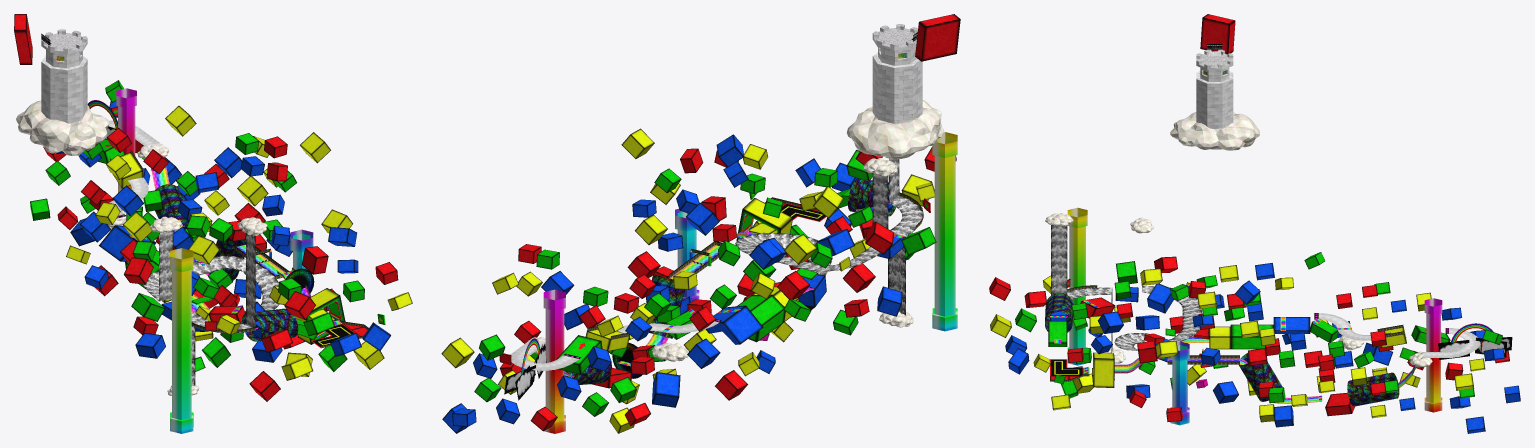
The picture shows the model from 3 angles, left to right: view 1: azimuth 30°, elevation 25°; view 2: azimuth 150°, elevation 25°; view 3: azimuth 270°, elevation 25°; orthographic projection. The views are drawn at different scales.
Parts seen in each view (by area): view 1: __CW-SKP--Cube_Blue, __CW-SKP--Cube_Red, __CW-SKP--Cube_Green, __CW-SKP--Cube_Yellow, __CW-SKP--Pipe, __CW-SKP--3D_Cloud_Semi-Transparent, __CW-SKP--Waterfall, __CW-SKP--Tower, __CW-SKP--r_warp_particle, __CW-SKP--Rainbow_Pipe, __CW-SKP--Rainbow_Road, __CW-SKP--Cloud_Road (+3 smaller); view 2: __CW-SKP--Cube_Blue, __CW-SKP--Cube_Red, __CW-SKP--Cube_Green, __CW-SKP--Cube_Yellow, __CW-SKP--Pipe, __CW-SKP--3D_Cloud_Semi-Transparent, __CW-SKP--Tower, __CW-SKP--Waterfall, __CW-SKP--Rainbow_Pipe, __CW-SKP--r_warp_particle, __CW-SKP--Cloud_Road, __CW-SKP--2D_Cloud (+4 smaller); view 3: __CW-SKP--Cube_Blue, __CW-SKP--Cube_Red, __CW-SKP--Cube_Yellow, __CW-SKP--Cube_Green, __CW-SKP--3D_Cloud_Semi-Transparent, __CW-SKP--Pipe, __CW-SKP--Waterfall, __CW-SKP--r_warp_particle, __CW-SKP--Tower, __CW-SKP--Rainbow_Pipe, __CW-SKP--Cloud_Road, __CW-SKP--Rainbow_Road (+3 smaller).
Boxes of the visible parts, x1,y1,x2,y2 form: __CW-SKP--Cube_Blue: (55,101,390,362); __CW-SKP--Cube_Red: (14,14,398,401); __CW-SKP--Cube_Green: (30,80,385,371); __CW-SKP--Cube_Yellow: (66,106,412,380); __CW-SKP--Pipe: (170,229,313,433); __CW-SKP--3D_Cloud_Semi-Transparent: (16,100,267,395); __CW-SKP--Waterfall: (143,231,279,385); __CW-SKP--Tower: (41,30,87,123); __CW-SKP--r_warp_particle: (155,184,298,341); __CW-SKP--Rainbow_Pipe: (116,88,136,210); __CW-SKP--Rainbow_Road: (151,157,310,312); __CW-SKP--Cloud_Road: (109,120,161,215); __CW-SKP--Cube_Blue: (442,134,903,433); __CW-SKP--Cube_Red: (499,14,960,431); __CW-SKP--Cube_Green: (474,150,936,416); __CW-SKP--Cube_Yellow: (441,128,934,433); __CW-SKP--Pipe: (675,132,957,331); __CW-SKP--3D_Cloud_Semi-Transparent: (527,100,944,361); __CW-SKP--Tower: (872,25,922,123); __CW-SKP--Waterfall: (735,158,905,315); __CW-SKP--Rainbow_Pipe: (543,289,565,433); __CW-SKP--r_warp_particle: (564,178,899,384); __CW-SKP--Cloud_Road: (510,321,719,370); __CW-SKP--2D_Cloud: (504,344,546,400); __CW-SKP--Cube_Blue: (1005,263,1520,433); __CW-SKP--Cube_Red: (989,14,1509,421); __CW-SKP--Cube_Yellow: (990,265,1485,422); __CW-SKP--Cube_Green: (1015,252,1502,403); __CW-SKP--3D_Cloud_Semi-Transparent: (1045,112,1432,367); __CW-SKP--Pipe: (1067,207,1189,425); __CW-SKP--Waterfall: (1051,225,1201,352); __CW-SKP--r_warp_particle: (1045,293,1399,406); __CW-SKP--Tower: (1196,51,1233,129); __CW-SKP--Rainbow_Pipe: (1424,298,1442,412); __CW-SKP--Cloud_Road: (1318,313,1480,358); __CW-SKP--Rainbow_Road: (1114,336,1416,403).
Bounding box in the file's own units: 78585 × 79532 × 123764.
Materials: 37 (37 with a texture image).
